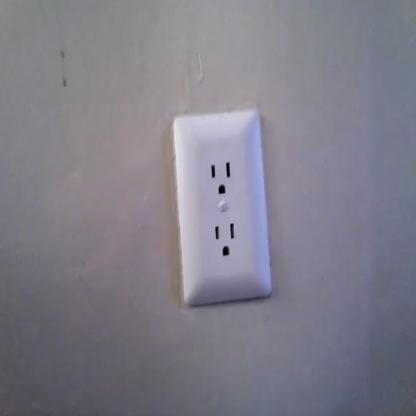OUTLET: (178, 117, 272, 297)
